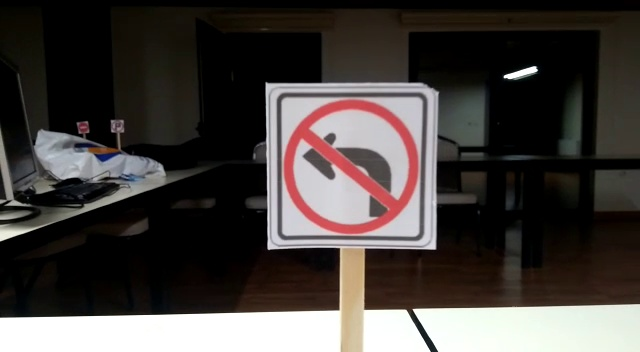sola_donulmez: (270, 96, 430, 244)
